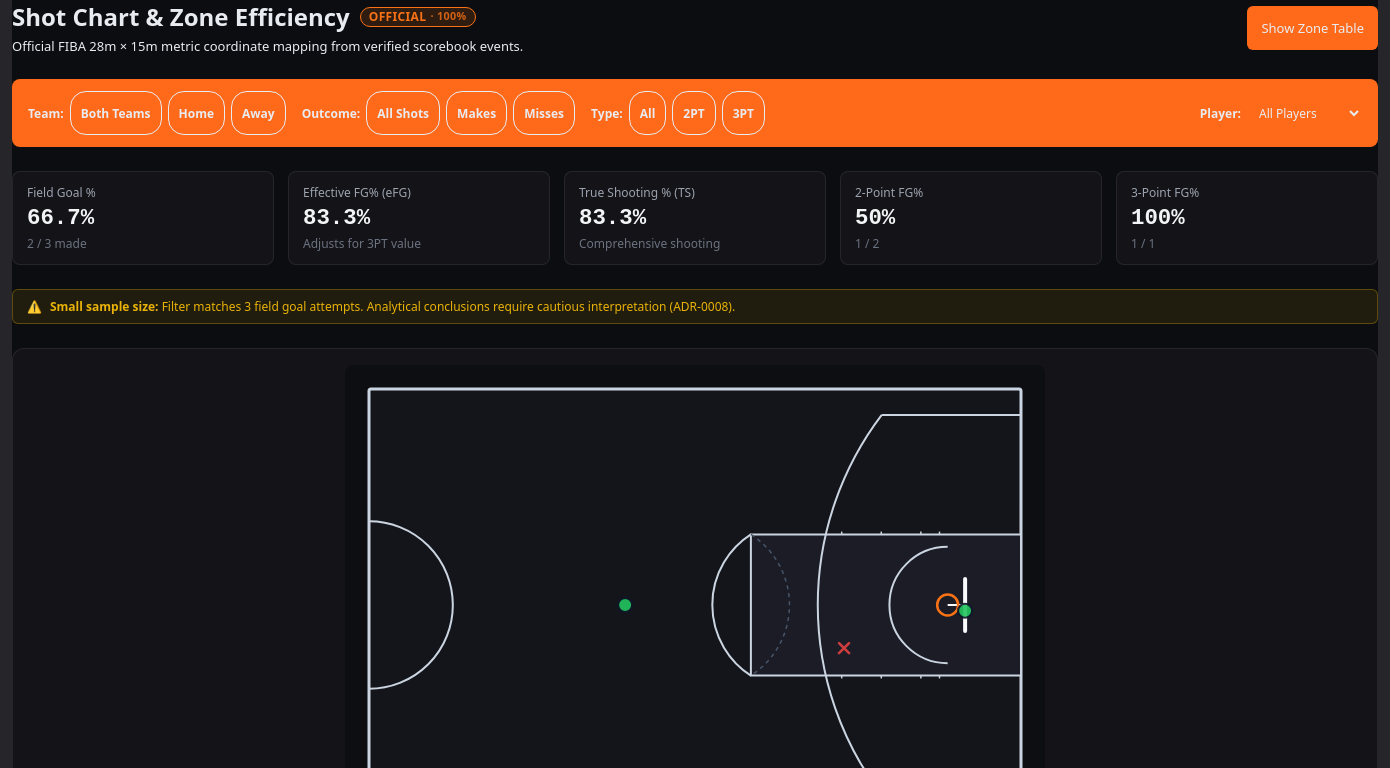
Scenario: ShotChartView component (WP-3.4) › toggles zone efficiency breakdown table
The image size is (1390, 768).
What coordinates should you click on to do the following:
click the button "Show Zone Table"
I would click on:
 (1313, 28)
Its box is [1247,6,1378,50].
(page scrolled)
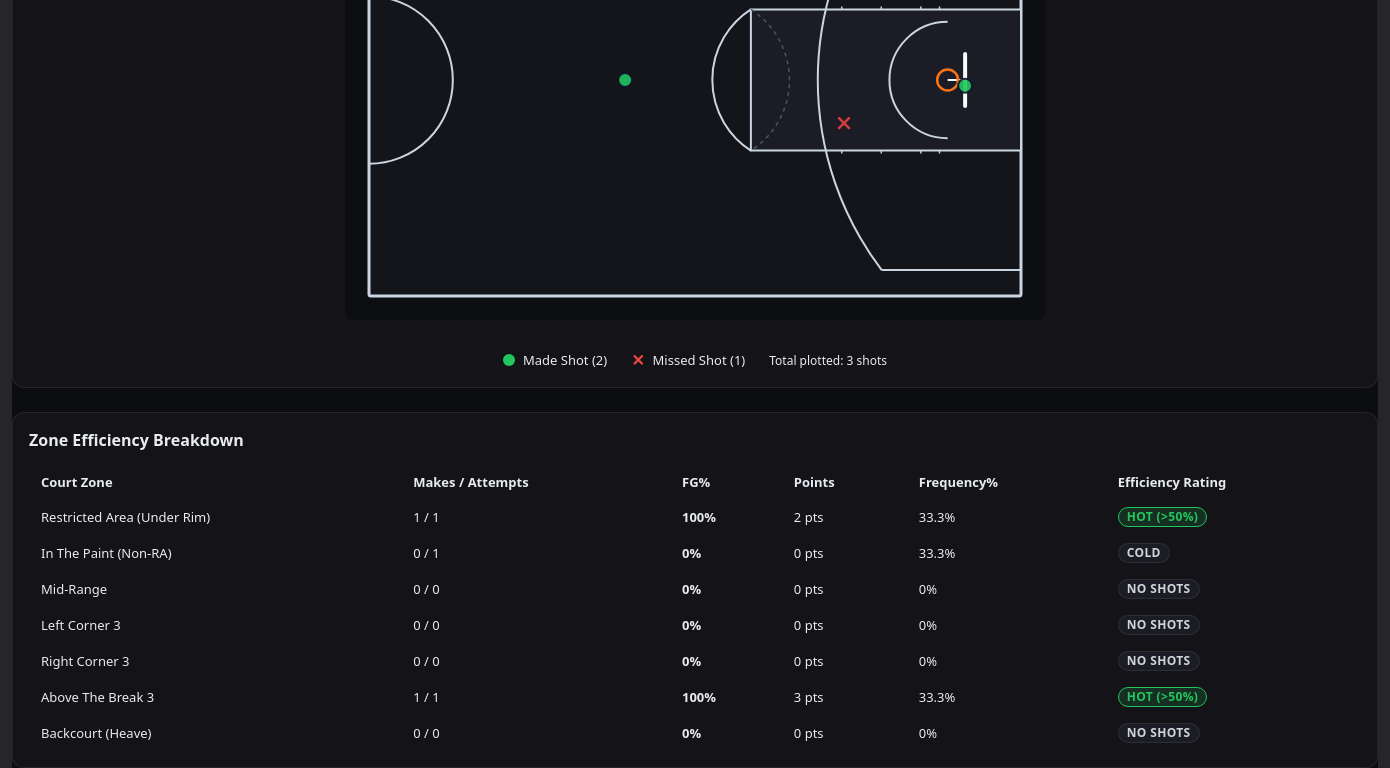
Check: the heading "Zone Efficiency Breakdown" is shown, box [29,429,244,451]
Check: the text "Restricted Area (Under Rim)" is shown, box [29,499,401,535]
Check: the text "Above The Break 3" is shown, box [29,679,401,715]
